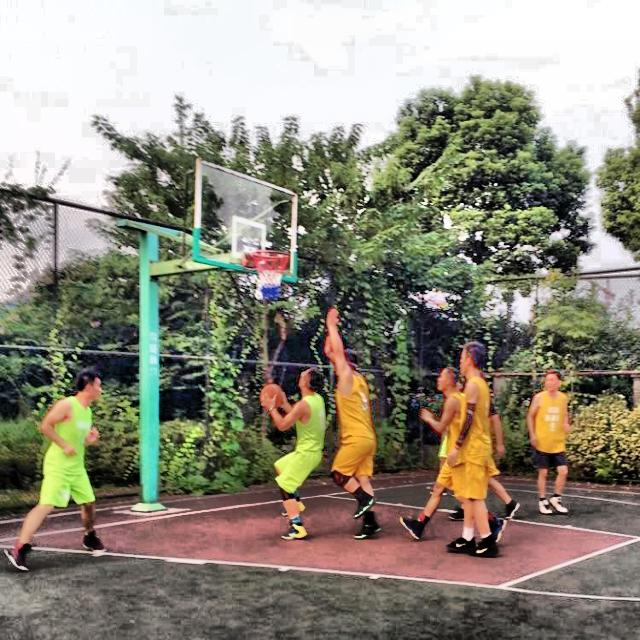rim: (251, 249, 291, 299)
